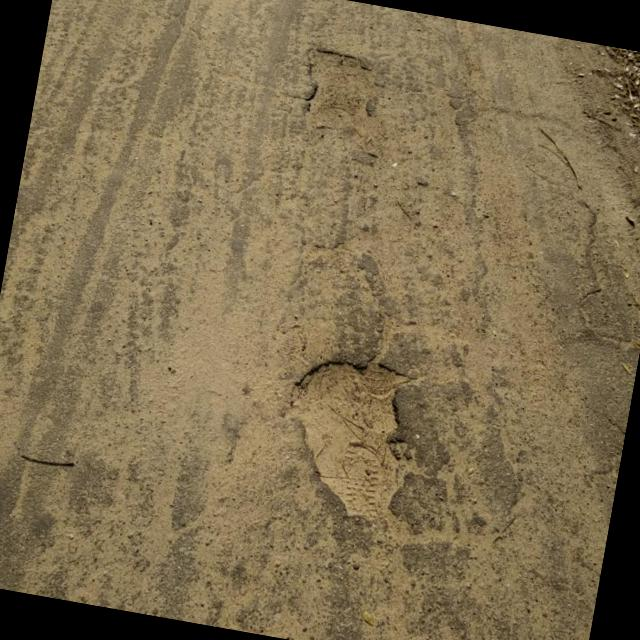Lubang: (286, 364, 413, 519)
